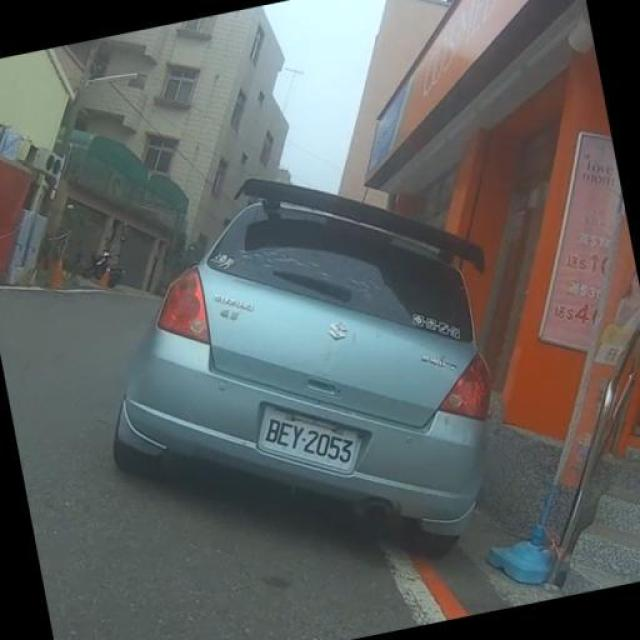Legalparking: (110, 142, 520, 578)
